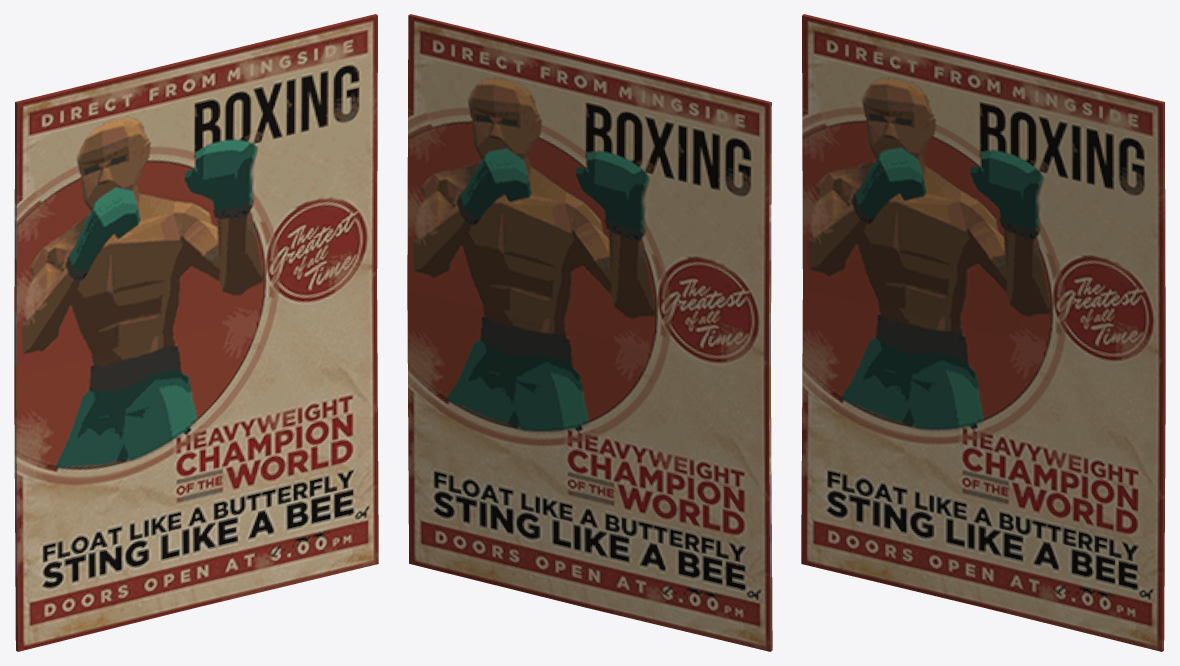
Rendered from Poster1.fbx.
The picture shows the model from 3 angles, left to right: view 1: azimuth 30°, elevation 25°; view 2: azimuth 150°, elevation 25°; view 3: azimuth 330°, elevation 25°; orthographic projection.
Parts seen in each view (by area): view 1: poster1; view 2: poster1; view 3: poster1.
Part boxes in pixels (x1,y1,x2,y2): poster1: (14, 14, 378, 651); poster1: (407, 14, 772, 651); poster1: (801, 14, 1165, 651).
Size of the model in its own units: 73.64 by 107 by 1.5.
